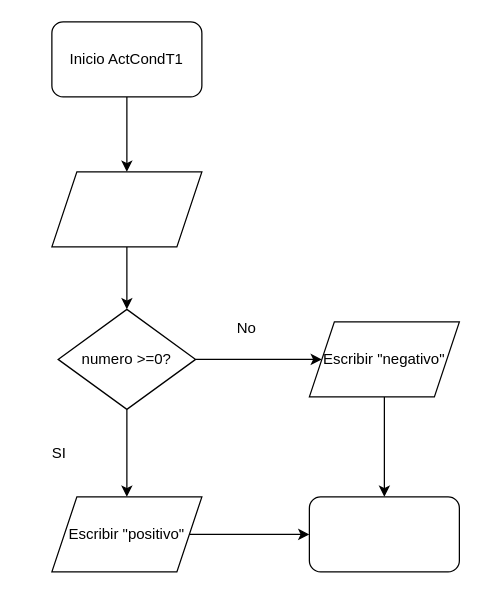
The diagram is 481 pixels wide and 594 high, and some of its shapes have lost their labels. Here are the shapes that lost their labels. From the top down, the centre of each, then its label:
At point 126,209: "Leer numero".
At point 383,534: "Fin ActCondT1".
